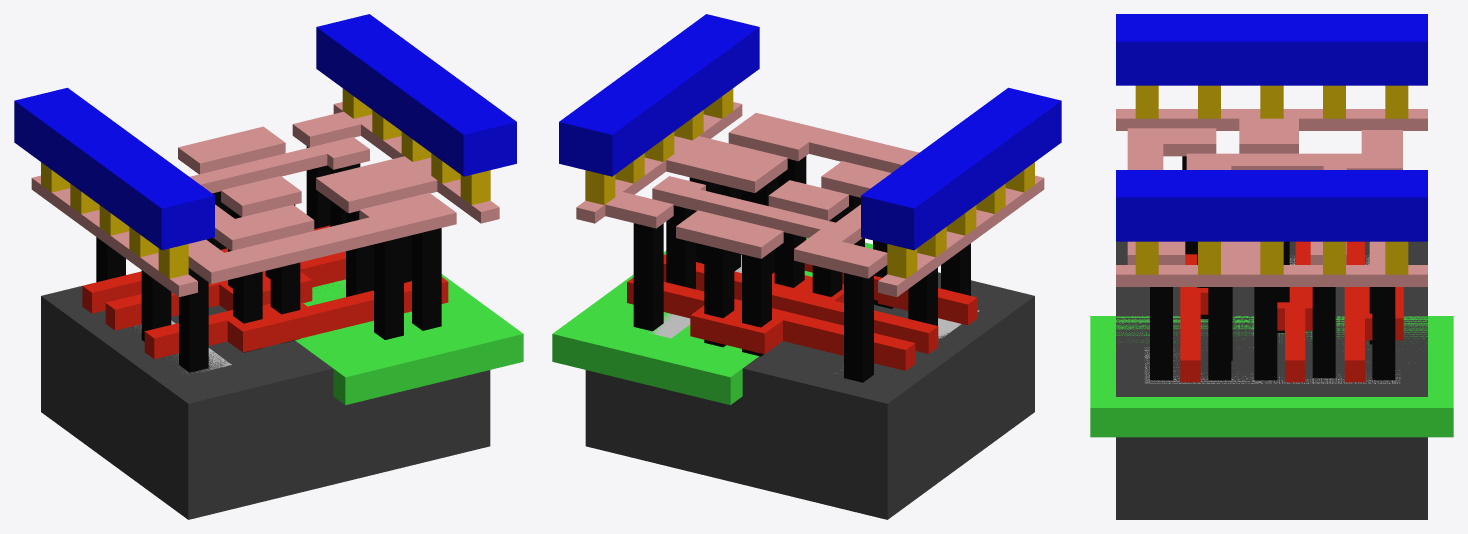
File: sky130_fd_sc_hd__and2_0.obj
3 renders of one model, left to right at view 1: azimuth 30°, elevation 25°; view 2: azimuth 150°, elevation 25°; view 3: azimuth 270°, elevation 25°, orthographic. The views are drawn at different scales.
Visible parts, largest first — view 1: subs, metal1, li, licon, nwell, poly, mcon; view 2: subs, metal1, li, licon, poly, nwell, mcon, tap; view 3: metal1, subs, li, nwell, licon, poly, mcon, tap.
Boxes of the visible parts, bbox=[...] form: subs: bbox=[41, 282, 490, 519]; metal1: bbox=[14, 14, 516, 250]; li: bbox=[31, 102, 499, 297]; licon: bbox=[96, 146, 441, 372]; nwell: bbox=[295, 274, 523, 405]; poly: bbox=[82, 225, 448, 359]; mcon: bbox=[41, 88, 490, 278]; subs: bbox=[585, 272, 1034, 519]; metal1: bbox=[559, 14, 1061, 250]; li: bbox=[576, 102, 1044, 297]; licon: bbox=[633, 156, 970, 382]; poly: bbox=[627, 240, 977, 370]; nwell: bbox=[552, 237, 872, 405]; mcon: bbox=[585, 88, 1034, 278]; tap: bbox=[648, 255, 741, 338]; metal1: bbox=[1116, 14, 1427, 241]; subs: bbox=[1116, 241, 1427, 519]; li: bbox=[1116, 109, 1427, 286]; nwell: bbox=[1090, 316, 1453, 437]; licon: bbox=[1150, 156, 1395, 380]; poly: bbox=[1180, 241, 1403, 382]; mcon: bbox=[1135, 85, 1408, 274]; tap: bbox=[1144, 347, 1400, 383].
Size of the model in its own units: 3.2 by 2.74 by 2.68.
